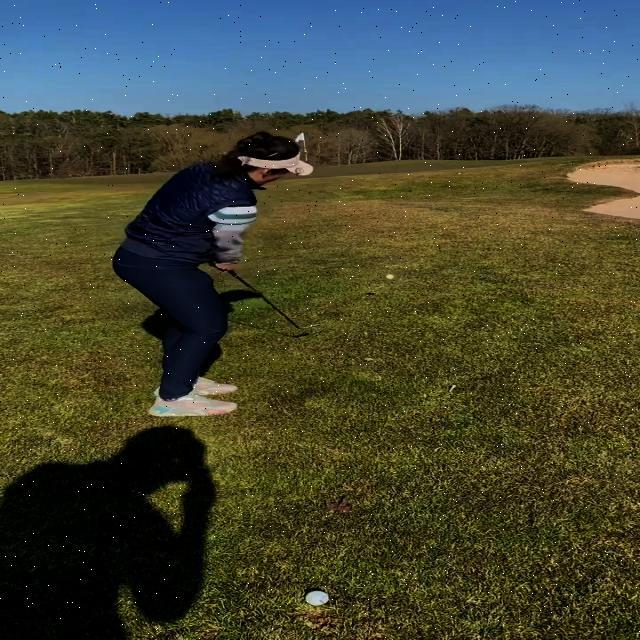golf ball: (305, 591, 329, 606), (386, 274, 394, 279)
golf club-handle: (229, 270, 321, 329)
golf club-head: (301, 324, 321, 328)
